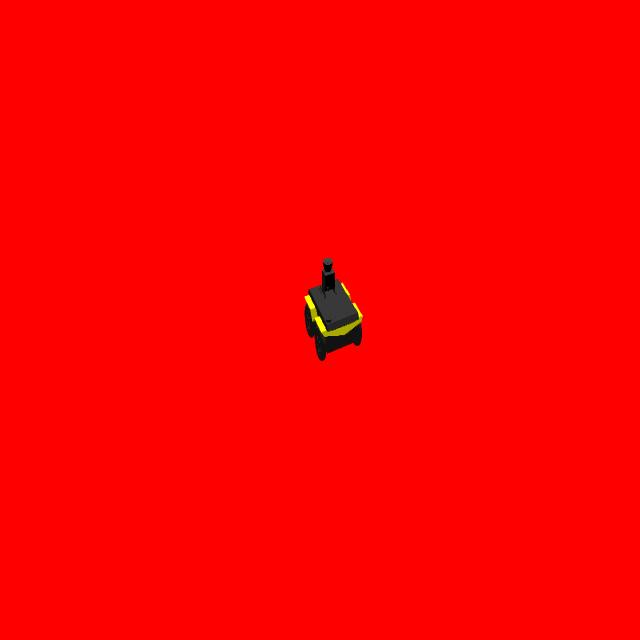jackal: (304, 251, 364, 362)
